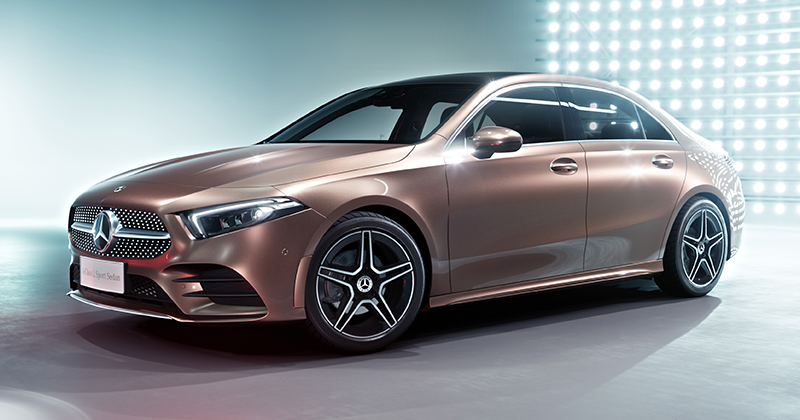sedan: (63, 66, 747, 356)
